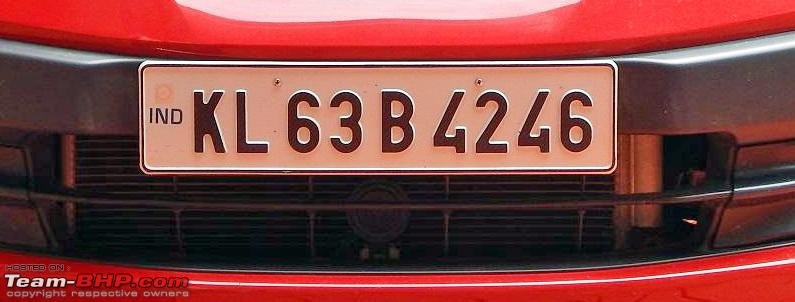number_plate: (134, 56, 619, 178)
